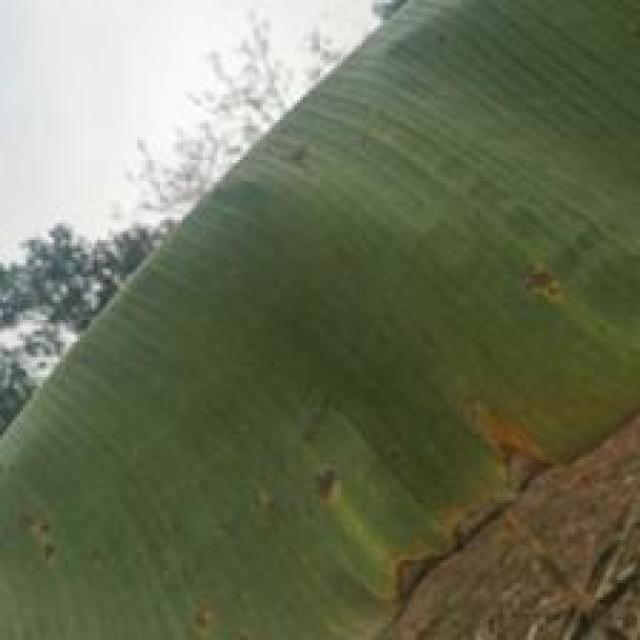Downey_mildrew: (308, 392, 611, 584), (457, 155, 626, 328)
